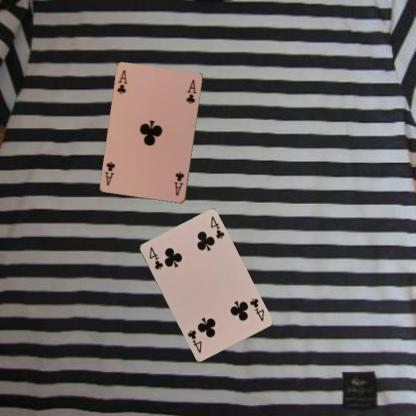4c: (146, 244, 164, 271), (247, 296, 265, 322)
Ac: (114, 68, 129, 95), (172, 169, 186, 197)
